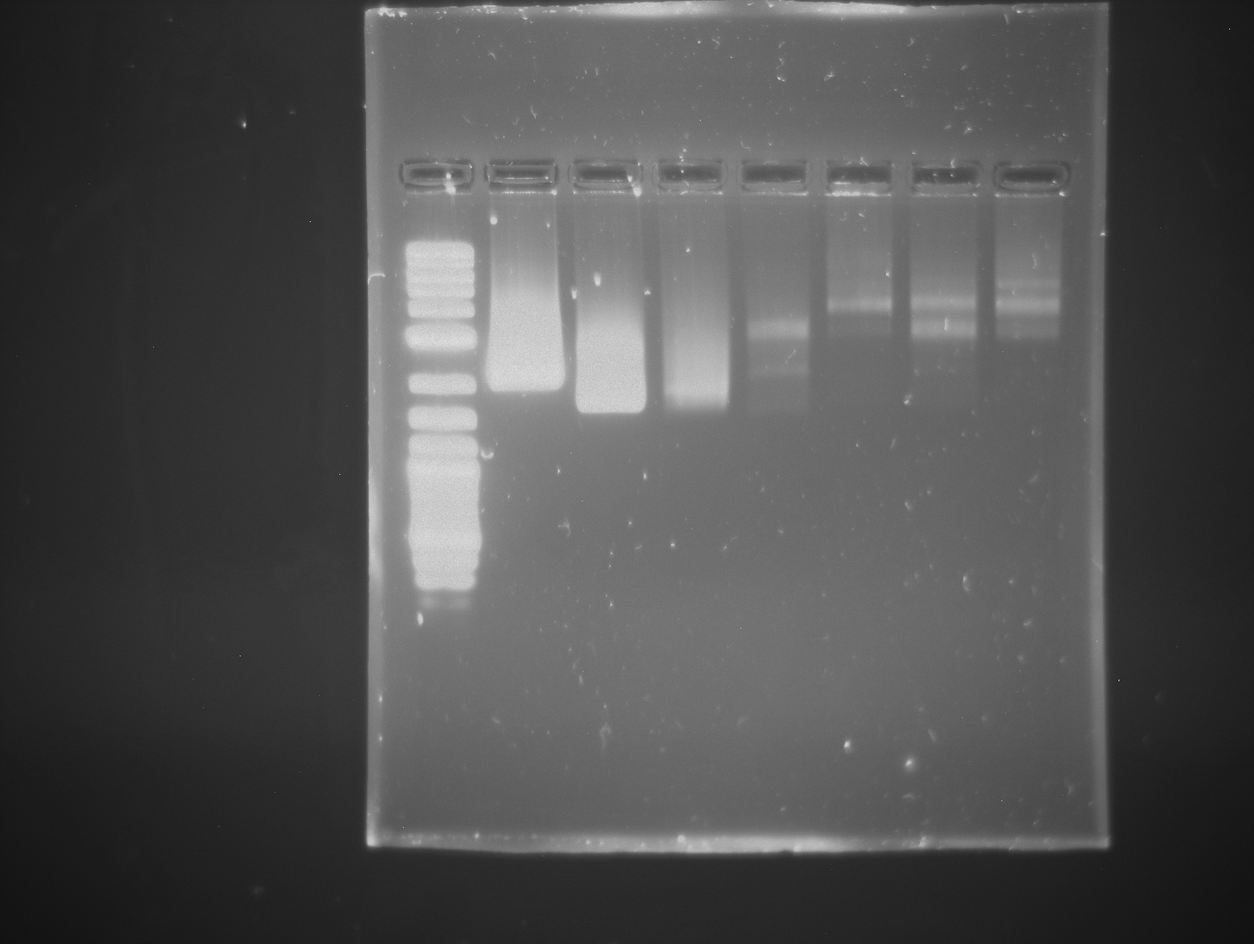Lane: (991, 48, 1071, 849), (733, 62, 813, 852), (489, 37, 564, 848), (825, 53, 901, 829), (652, 55, 726, 838), (572, 48, 642, 838), (911, 53, 979, 856)
ladder: (401, 32, 484, 847)
